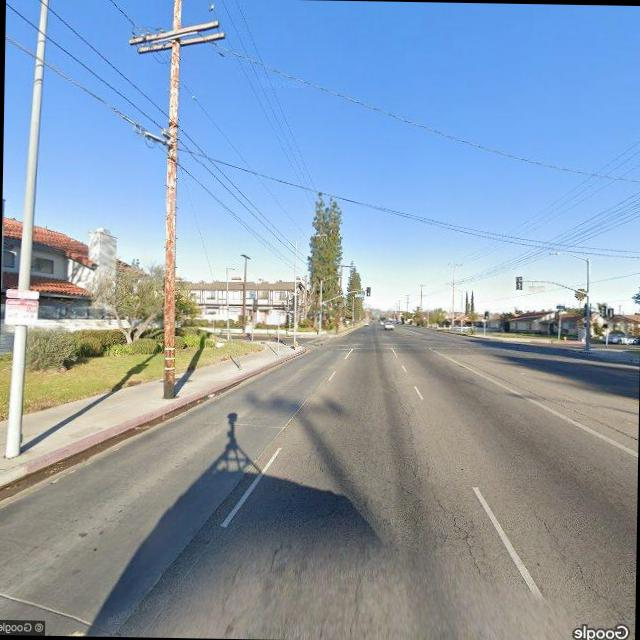pothole: (386, 377, 493, 575), (531, 506, 628, 624)
